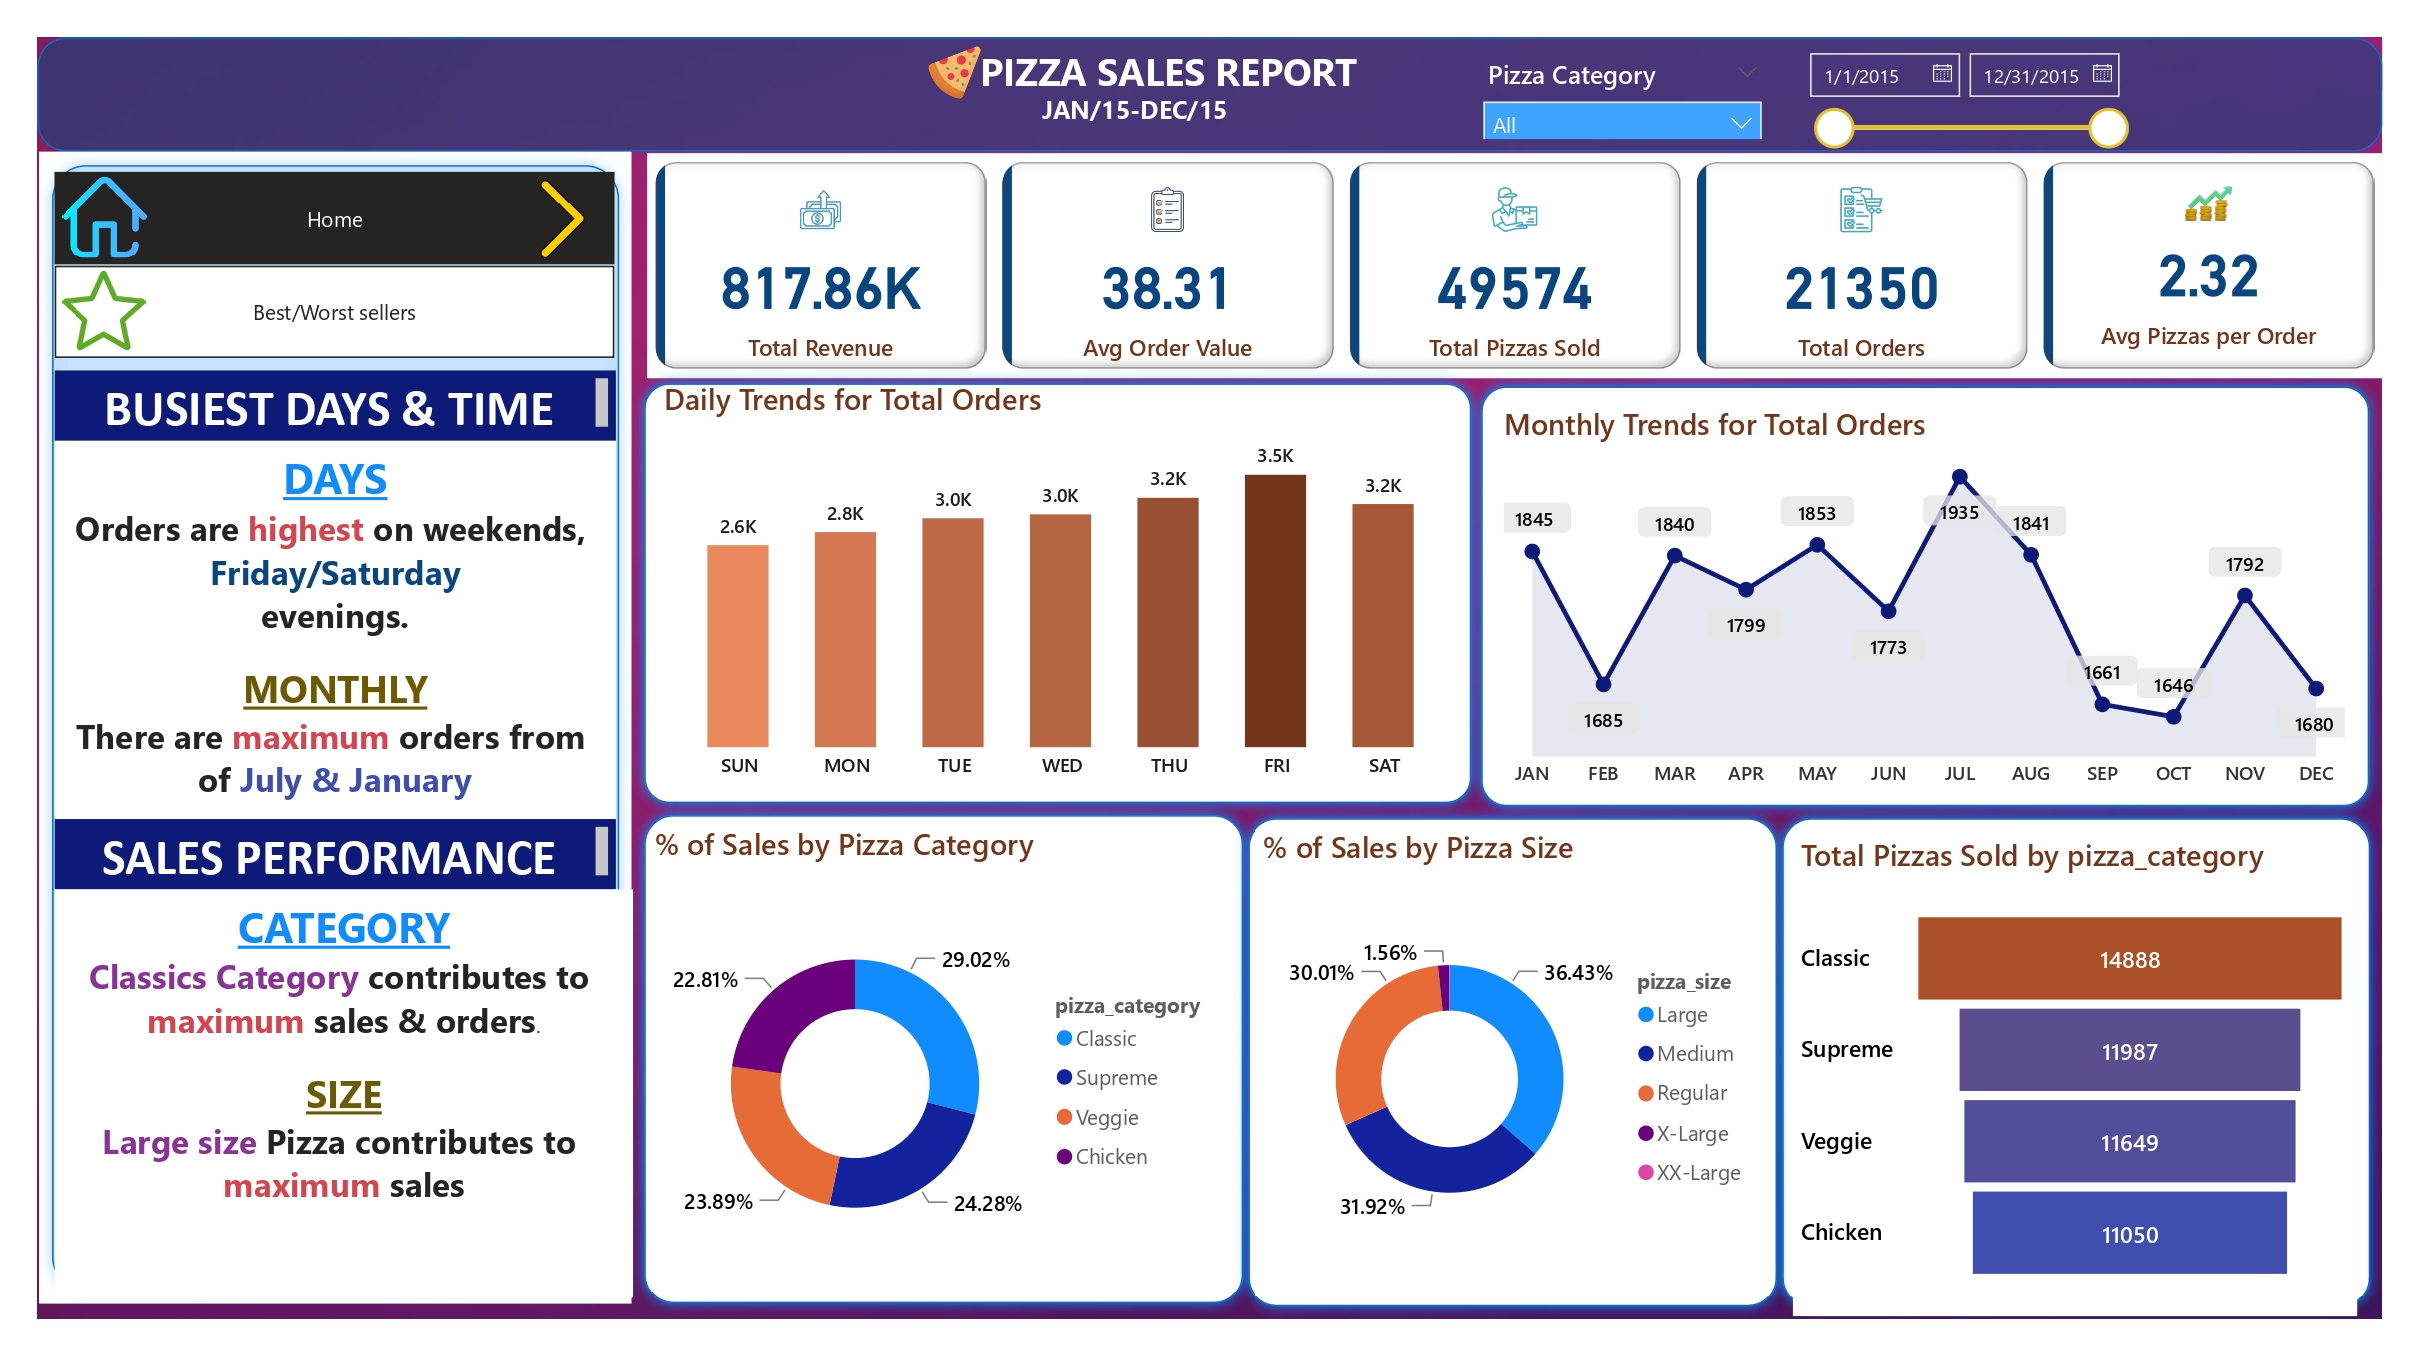

Layout of this report page (visuals, bound fields, positions):
{"tool":"powerbi","page":{"name":"Home","canvas":[1500,820],"ordinal":0},"visuals":[{"type":"cardVisual","fields":{"Data":["pizza_sales.Total Revenue","pizza_sales.Avg Order Value","pizza_sales.Total Pizzas Sold","pizza_sales.Total Orders","pizza_sales.Avg Pizzas per Order"]},"box":[390,73.8,1110,143.8],"z":0},{"type":"shape","box":[0,0,1500,72.5],"z":1000},{"type":"textbox","box":[555,0,293.8,42.5],"z":2000},{"type":"textbox","box":[625,30,153.8,42.5],"z":3000},{"type":"image","box":[555,0,62.5,45],"z":4000},{"type":"shape","box":[380,212.5,545,285],"z":5000},{"type":"columnChart","title":"Daily Trends for Total Orders","fields":{"Category":["pizza_sales.Order Day"],"Y":["pizza_sales.Total Orders"]},"box":[396.2,217.5,518.8,266.2],"z":6000},{"type":"shape","box":[915,215,585,285],"z":7000},{"type":"areaChart","title":"Monthly Trends for Total Orders","fields":{"Category":["pizza_sales.Order Month"],"Y":["pizza_sales.Total Orders"]},"box":[932.5,233.8,548.8,255],"z":8000},{"type":"shape","box":[380,488.8,398.8,328.8],"z":9000},{"type":"shape","box":[1.2,72.5,378.8,737.5],"z":10000},{"type":"shape","box":[1107.5,491.2,392.5,328.8],"z":11000},{"type":"shape","box":[766.2,491.2,355,328.8],"z":12000},{"type":"donutChart","title":"% of Sales by Pizza Category","fields":{"Category":["pizza_sales.pizza_category"],"Y":["pizza_sales.Total Orders"]},"box":[390,502.5,375,307.5],"z":13000},{"type":"donutChart","title":"% of Sales by Pizza Size","fields":{"Y":["pizza_sales.Total Orders"],"Category":["pizza_sales.pizza_size"]},"box":[778.8,505,328.8,297.5],"z":14000},{"type":"funnel","fields":{"Category":["pizza_sales.pizza_category"],"Y":["pizza_sales.Total Pizzas Sold"]},"box":[1122.5,510,361.2,307.5],"z":15000},{"type":"textbox","box":[11.2,212.5,358.8,45],"z":16000},{"type":"textbox","box":[11.2,257.5,358.8,242.5],"z":17000},{"type":"textbox","box":[11.2,500,358.8,45],"z":18000},{"type":"textbox","box":[11.2,545,370,261.2],"z":19000},{"type":"slicer","fields":{"Values":["pizza_sales.pizza_category"]},"box":[915,7.5,197.5,57.5],"z":20000},{"type":"slicer","fields":{"Values":["pizza_sales.order_date"]},"box":[1121.2,0,225,72.5],"z":21000},{"type":"pageNavigator","box":[10.9,85.8,358.1,59.9],"z":21001},{"type":"pageNavigator","box":[10.9,145.7,358.1,59.9],"z":21002},{"type":"image","box":[302.3,85.8,66.7,59.9],"z":21003},{"type":"image","box":[10.9,79,64,72.2],"z":21004},{"type":"image","box":[10.9,143,62.6,62.6],"z":21005}]}

Visuals, with their boxes in screenshot pixels (x1, y1, x2, y2):
cardVisual - pizza_sales.Total Revenue x pizza_sales.Avg Order Value: <box>647,153,2382,378</box>
shape: <box>38,38,2382,151</box>
textbox: <box>905,38,1364,104</box>
textbox: <box>1015,84,1255,151</box>
image: <box>905,38,1003,108</box>
shape: <box>632,370,1484,815</box>
"Daily Trends for Total Orders" columnChart: <box>657,378,1468,794</box>
shape: <box>1468,374,2382,819</box>
"Monthly Trends for Total Orders" areaChart: <box>1495,403,2353,802</box>
shape: <box>632,802,1255,1316</box>
shape: <box>39,151,632,1304</box>
shape: <box>1769,805,2382,1319</box>
shape: <box>1235,805,1790,1319</box>
"% of Sales by Pizza Category" donutChart: <box>647,823,1233,1304</box>
"% of Sales by Pizza Size" donutChart: <box>1255,827,1769,1292</box>
funnel - pizza_sales.pizza_category x pizza_sales.Total Pizzas Sold: <box>1792,835,2357,1316</box>
textbox: <box>55,370,616,440</box>
textbox: <box>55,440,616,819</box>
textbox: <box>55,819,616,890</box>
textbox: <box>55,890,633,1298</box>
slicer - pizza_sales.pizza_category: <box>1468,49,1777,139</box>
slicer - pizza_sales.order_date: <box>1790,38,2142,151</box>
pageNavigator: <box>55,172,614,265</box>
pageNavigator: <box>55,265,614,359</box>
image: <box>510,172,614,265</box>
image: <box>55,161,155,274</box>
image: <box>55,261,152,359</box>
